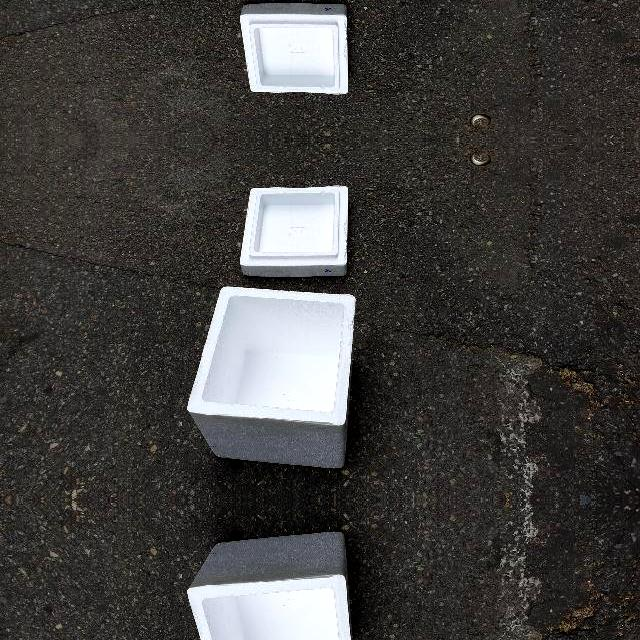Styrofoam: (189, 284, 357, 472), (187, 286, 355, 468), (189, 528, 357, 640), (187, 532, 351, 640), (240, 183, 350, 279), (240, 1, 350, 97), (240, 185, 348, 276), (240, 4, 348, 95)
